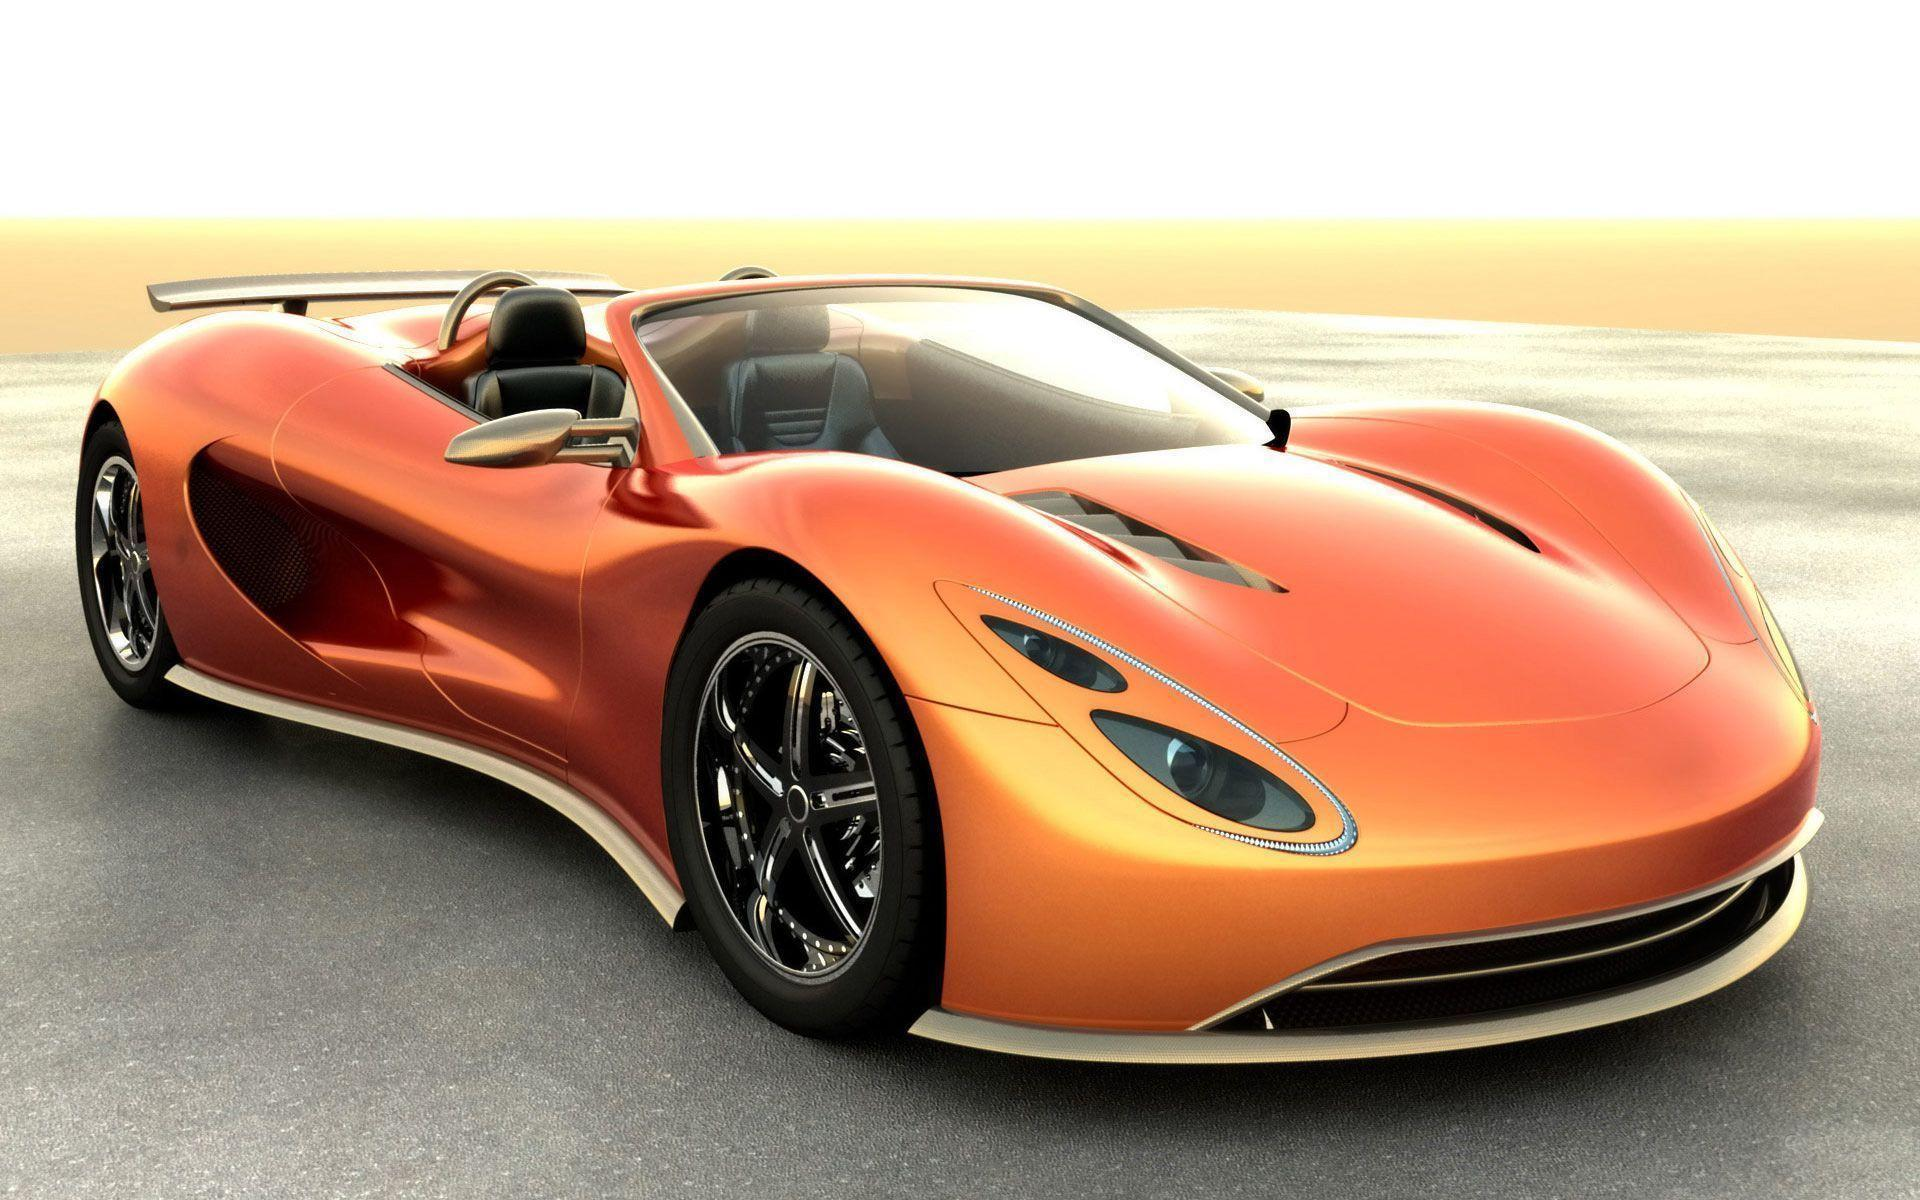Car: (28, 224, 1883, 1089)
